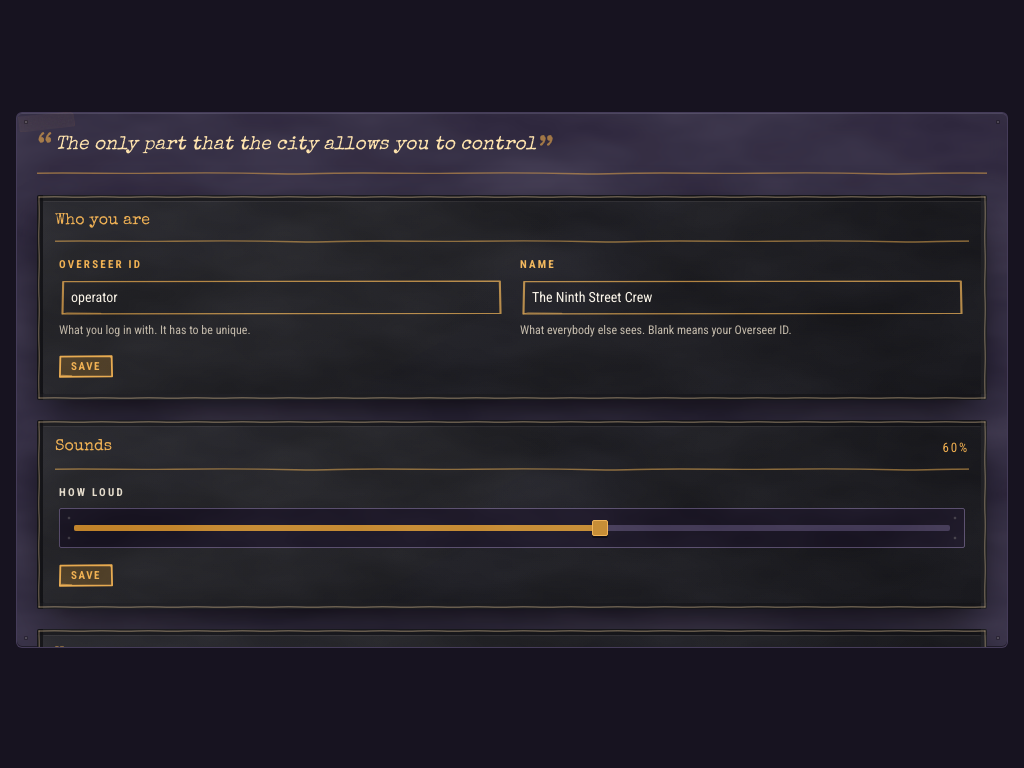
the rules on names and passwords › refuses a rename onto one of the game’s own names
Replace the text in the field with test id "settings-username" with "System" at (282, 298), box [59, 279, 504, 316]
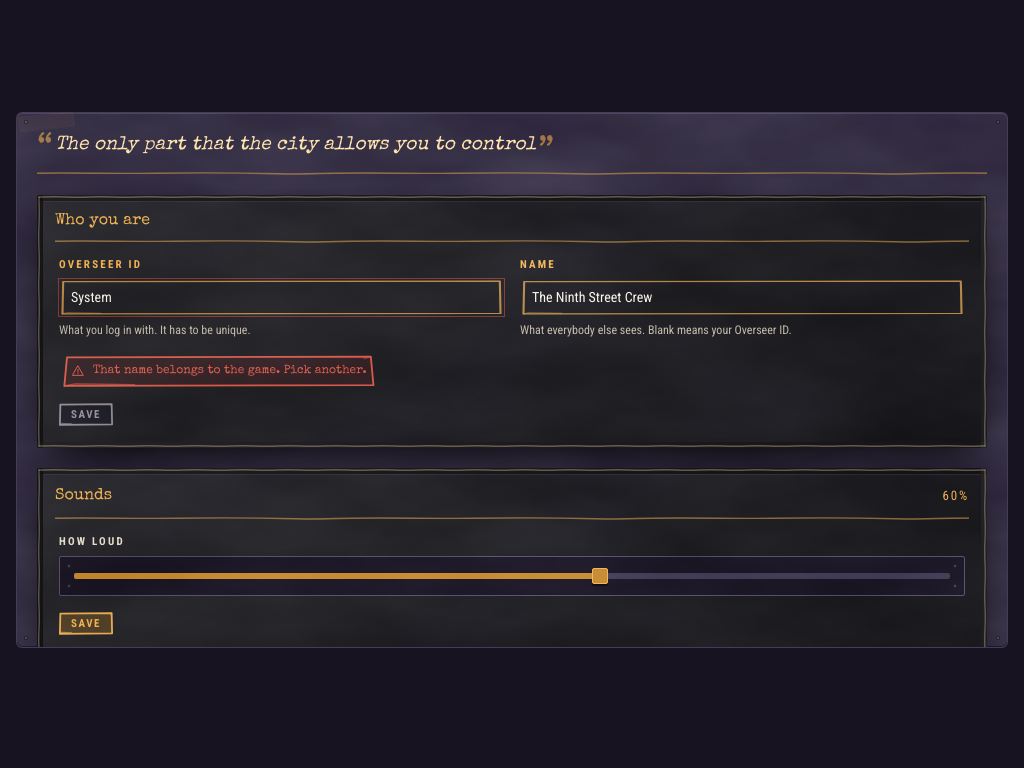
Expected: the text "That name belongs to the game. Pick another." is shown, [93, 363, 367, 379]
